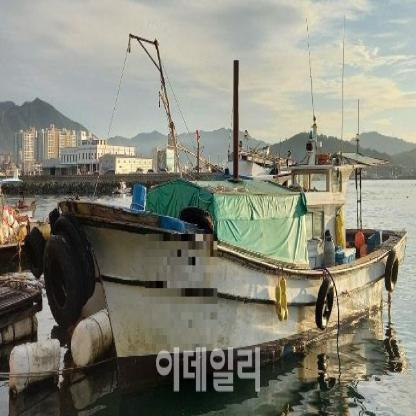fish-b: (60, 9, 408, 396)
